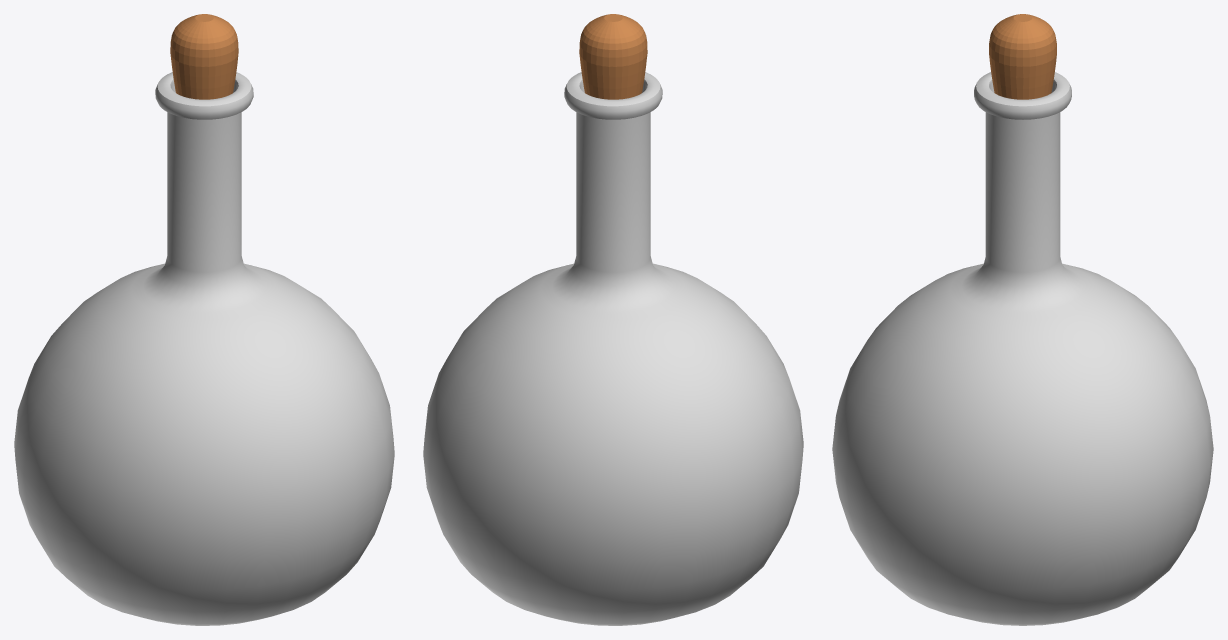
Rendered from Bottle 1.fbx.
3 renders of one model, left to right at view 1: azimuth 30°, elevation 25°; view 2: azimuth 150°, elevation 25°; view 3: azimuth 270°, elevation 25°, orthographic.
Visible parts, largest first — view 1: Bottle, Cap; view 2: Bottle, Cap; view 3: Bottle, Cap.
Boxes of the visible parts, bbox=[...] form: Bottle: bbox=[14, 72, 394, 625]; Cap: bbox=[170, 14, 238, 99]; Bottle: bbox=[423, 72, 803, 625]; Cap: bbox=[579, 14, 647, 99]; Bottle: bbox=[832, 72, 1213, 625]; Cap: bbox=[989, 14, 1056, 99].
Size of the model in its own units: 200 by 332 by 200.
